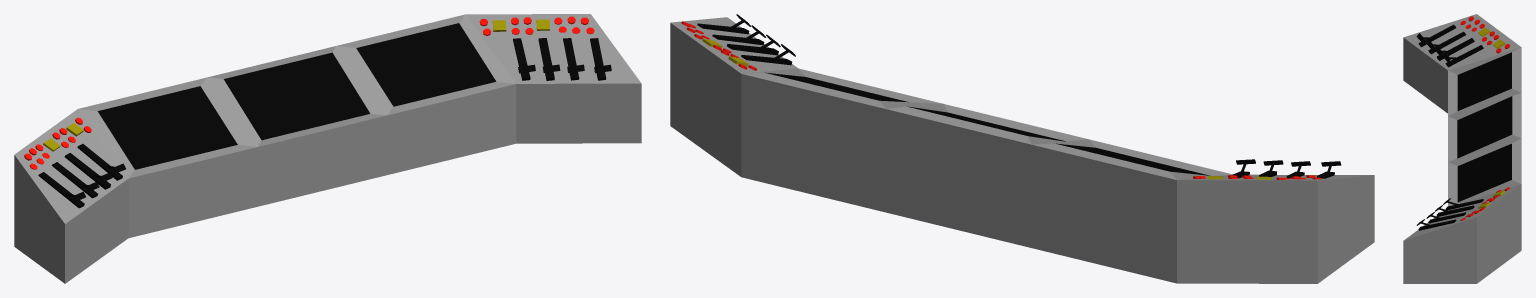
File: Control panel.fbx
3 views of the same model, side by side, from view 1: azimuth 30°, elevation 25°; view 2: azimuth 150°, elevation 25°; view 3: azimuth 270°, elevation 25° (orthographic). The views are drawn at different scales.
Visible parts, largest first — view 1: Cube.003; view 2: Cube.003; view 3: Cube.003.
Boxes of the visible parts, x1,y1,x2,y2 form: Cube.003: (14,14,641,283); Cube.003: (670,14,1374,283); Cube.003: (1403,14,1521,283).
Size of the model in its own units: 2022 by 311 by 497.
